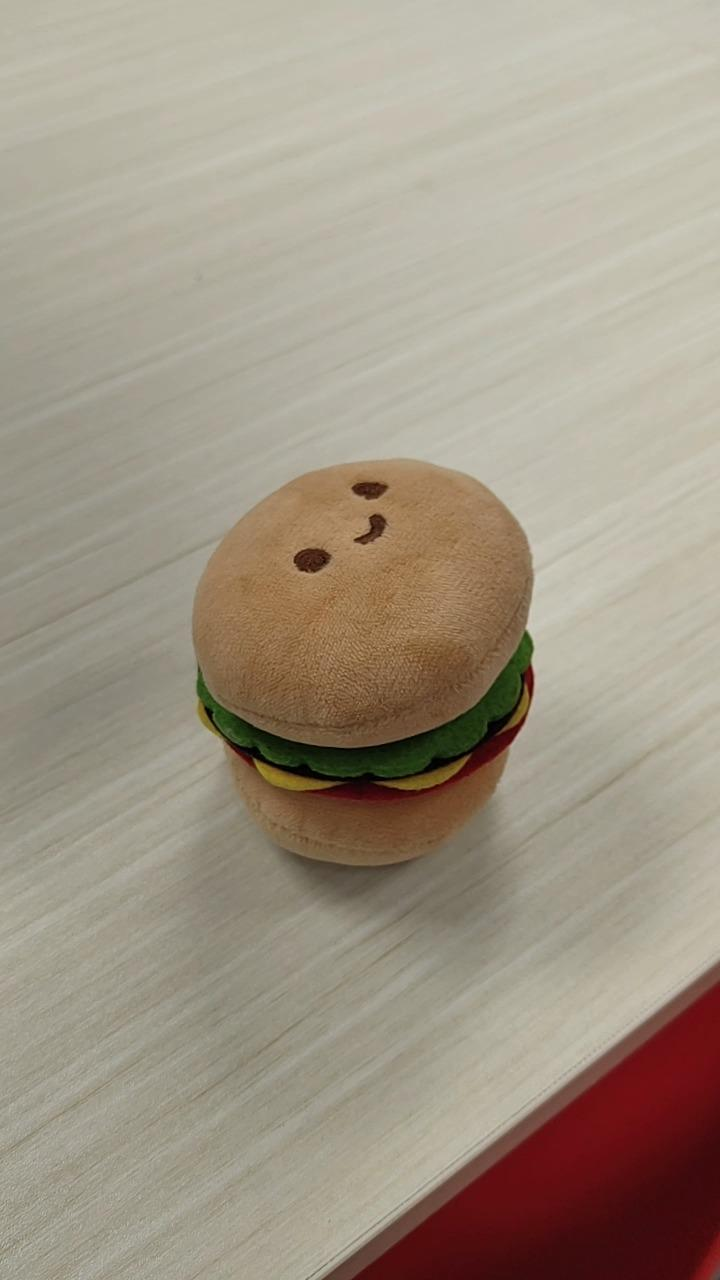hamburger: (190, 455, 536, 868)
